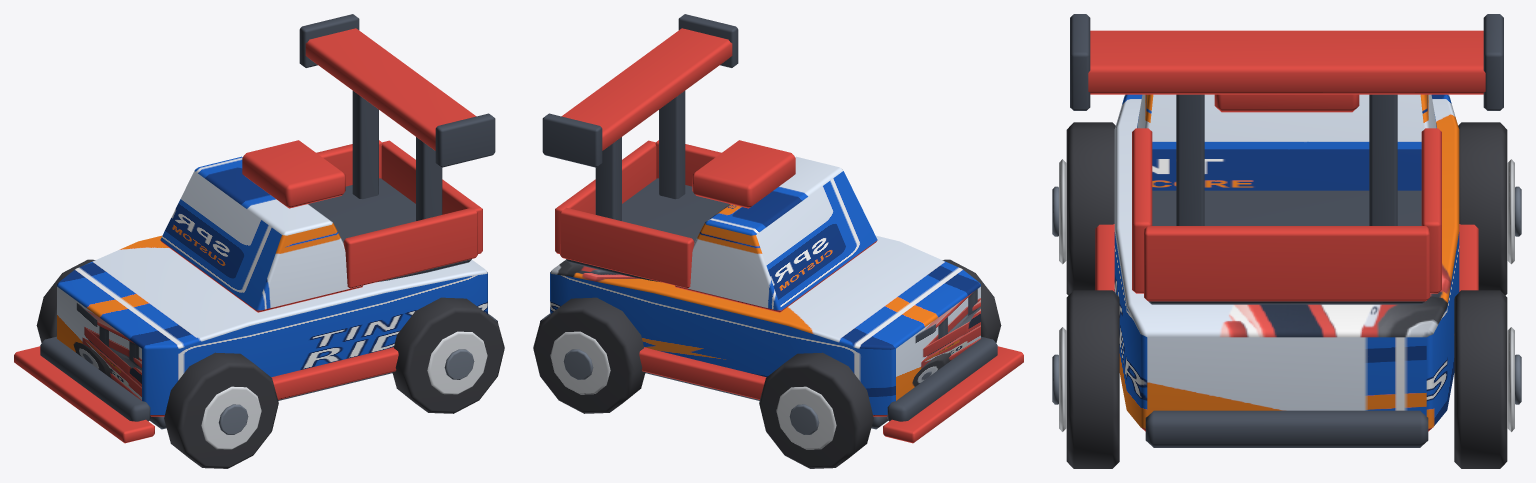
3 views of the same model, side by side, from view 1: azimuth 30°, elevation 25°; view 2: azimuth 150°, elevation 25°; view 3: azimuth 270°, elevation 25° (orthographic). The views are drawn at different scales.
Visible parts, largest first — view 1: TC-03_connected_shell, TC-03_cabin, rear airfoil, Tire, Tire.002, cargo side, custom equipment, cargo floor, custom chin, custom side guard, front bumper, wing support.001 (+10 smaller); view 2: TC-03_connected_shell, TC-03_cabin, rear airfoil, Tire.001, Tire.003, cargo side.001, custom equipment, cargo floor, custom chin, custom side guard.001, front bumper, wing support (+10 smaller); view 3: TC-03_connected_shell, rear airfoil, cargo tail, TC-03_cabin, rear bumper, Tire.002, Tire.003, cargo floor, Tire, Tire.001, wing support, wing support.001 (+11 smaller).
Part boxes in pixels (box(x1,y1,x2,y2)): TC-03_connected_shell: box(57, 235, 487, 416); TC-03_cabin: box(160, 156, 362, 312); rear airfoil: box(305, 28, 476, 150); Tire: box(164, 352, 278, 468); Tire.002: box(392, 297, 504, 413); cargo side: box(343, 207, 477, 288); custom equipment: box(242, 140, 345, 208); cargo floor: box(308, 178, 471, 281); custom chin: box(14, 346, 154, 443); custom side guard: box(271, 347, 398, 399); front bumper: box(40, 336, 150, 421); wing support.001: box(352, 91, 378, 199); TC-03_connected_shell: box(550, 235, 980, 416); TC-03_cabin: box(675, 156, 877, 312); rear airfoil: box(561, 28, 732, 150); Tire.001: box(759, 352, 873, 468); Tire.003: box(533, 297, 645, 413); cargo side.001: box(560, 207, 694, 288); custom equipment: box(692, 140, 795, 208); cargo floor: box(566, 178, 729, 281); custom chin: box(883, 346, 1023, 443); custom side guard.001: box(639, 347, 766, 399); front bumper: box(887, 336, 997, 421); wing support: box(659, 91, 685, 199); TC-03_connected_shell: box(1114, 94, 1459, 431); rear airfoil: box(1088, 30, 1485, 94); cargo tail: box(1144, 226, 1429, 301); TC-03_cabin: box(1137, 94, 1436, 190); rear bumper: box(1145, 410, 1428, 447); Tire.002: box(1066, 290, 1119, 468); Tire.003: box(1454, 290, 1507, 468); cargo floor: box(1148, 190, 1425, 304); Tire: box(1066, 122, 1115, 295); Tire.001: box(1458, 122, 1507, 295); wing support: box(1176, 94, 1204, 225); wing support.001: box(1369, 94, 1397, 225).
Bounding box in the file's own units: 332 × 237 × 230.
